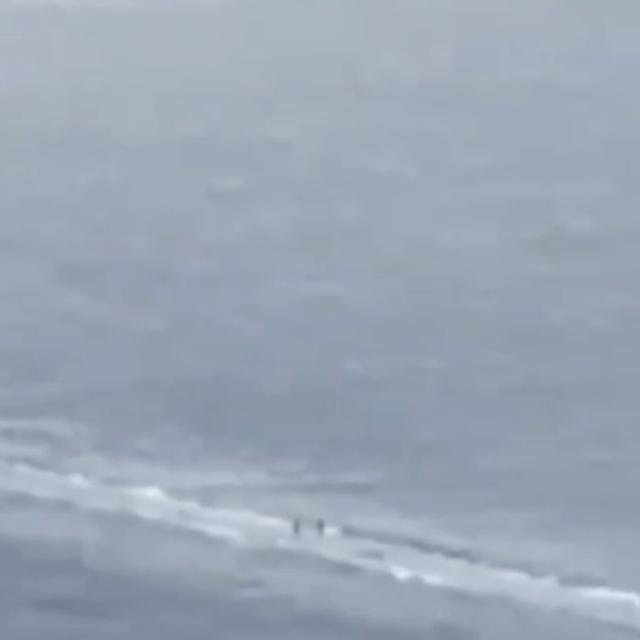infantry: (314, 513, 326, 538), (291, 514, 299, 540)
